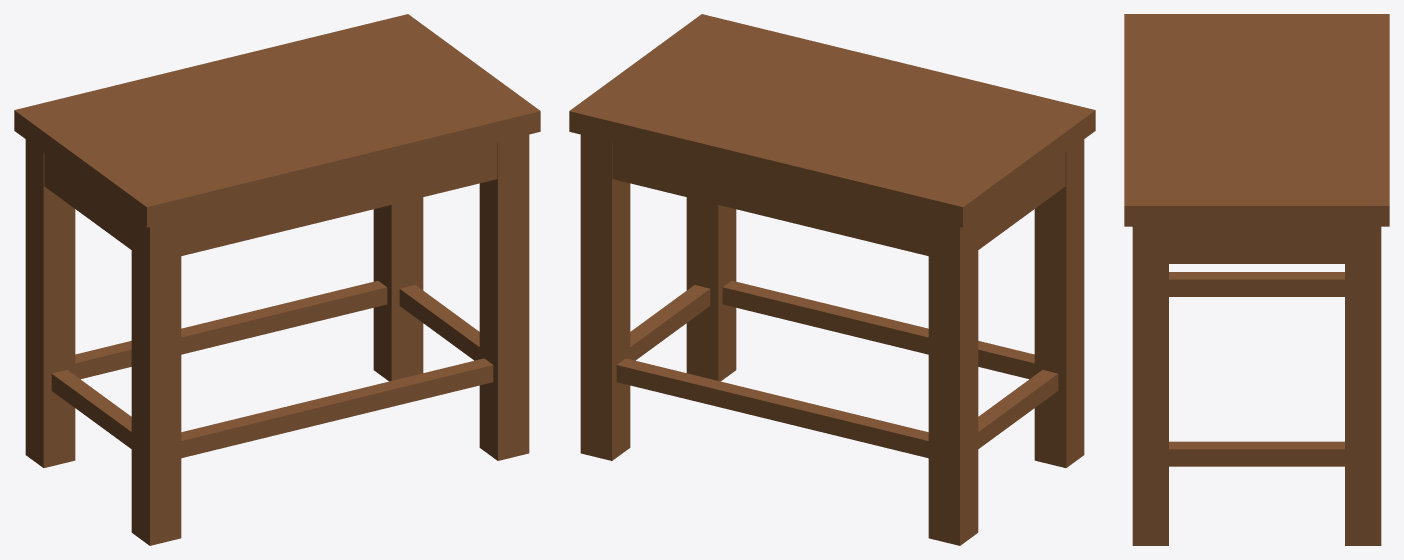
File: parametric-piano-stool-3rd.glb
3 renders of one model, left to right at view 1: azimuth 30°, elevation 25°; view 2: azimuth 150°, elevation 25°; view 3: azimuth 270°, elevation 25°, orthographic.
Parts seen in each view (by area): view 1: parametric-piano-stool-3rd; view 2: parametric-piano-stool-3rd; view 3: parametric-piano-stool-3rd.
Boxes of the visible parts, left/top/right/bottom form: parametric-piano-stool-3rd: left=14, top=14, right=540, bottom=545; parametric-piano-stool-3rd: left=569, top=14, right=1095, bottom=545; parametric-piano-stool-3rd: left=1124, top=14, right=1389, bottom=545.
Size of the model in its own units: 0.6 by 0.5 by 0.35.
